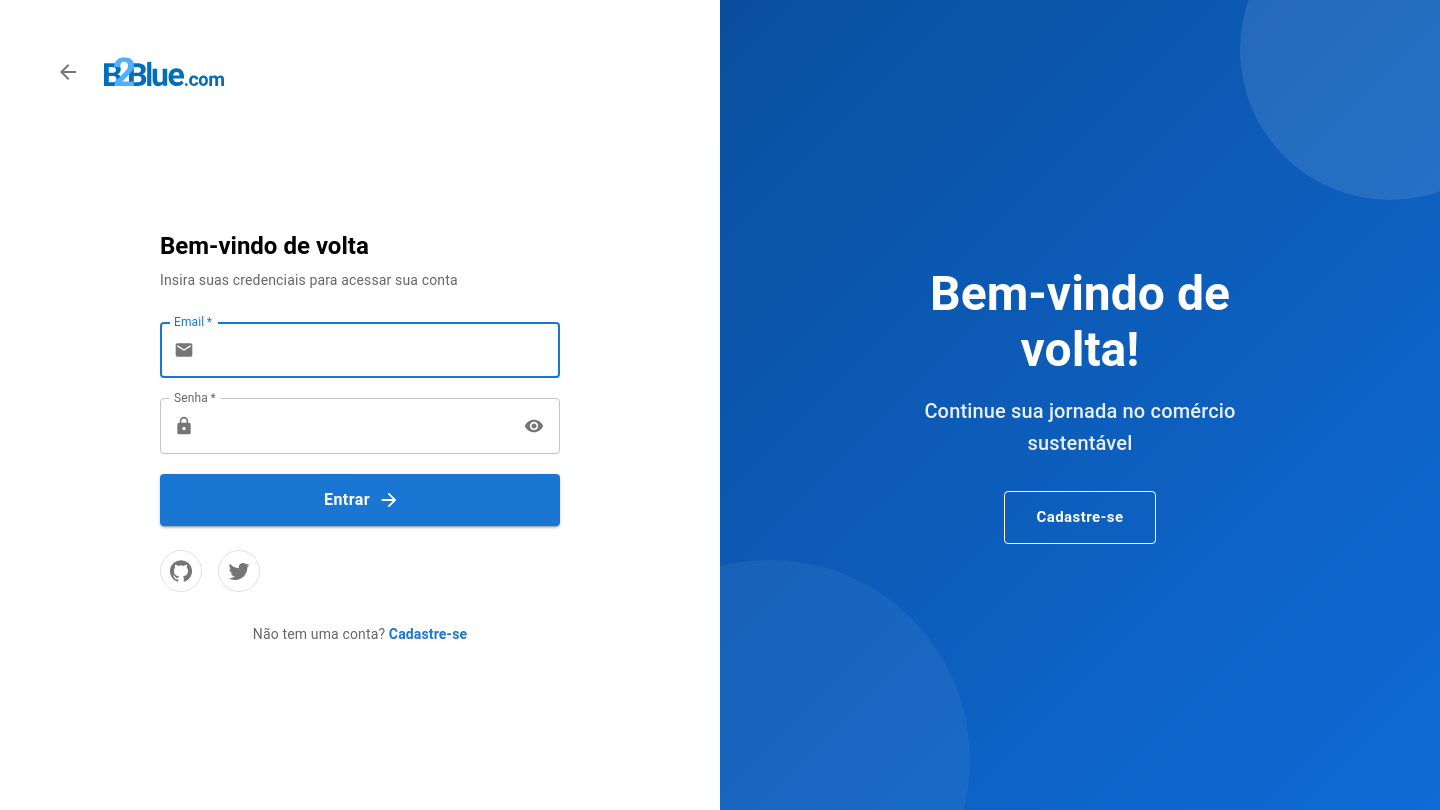
AuthPage › displays error message on login failure
In the field labelled "Email *": (381, 350) [202,322,560,378], type "test@example.com"
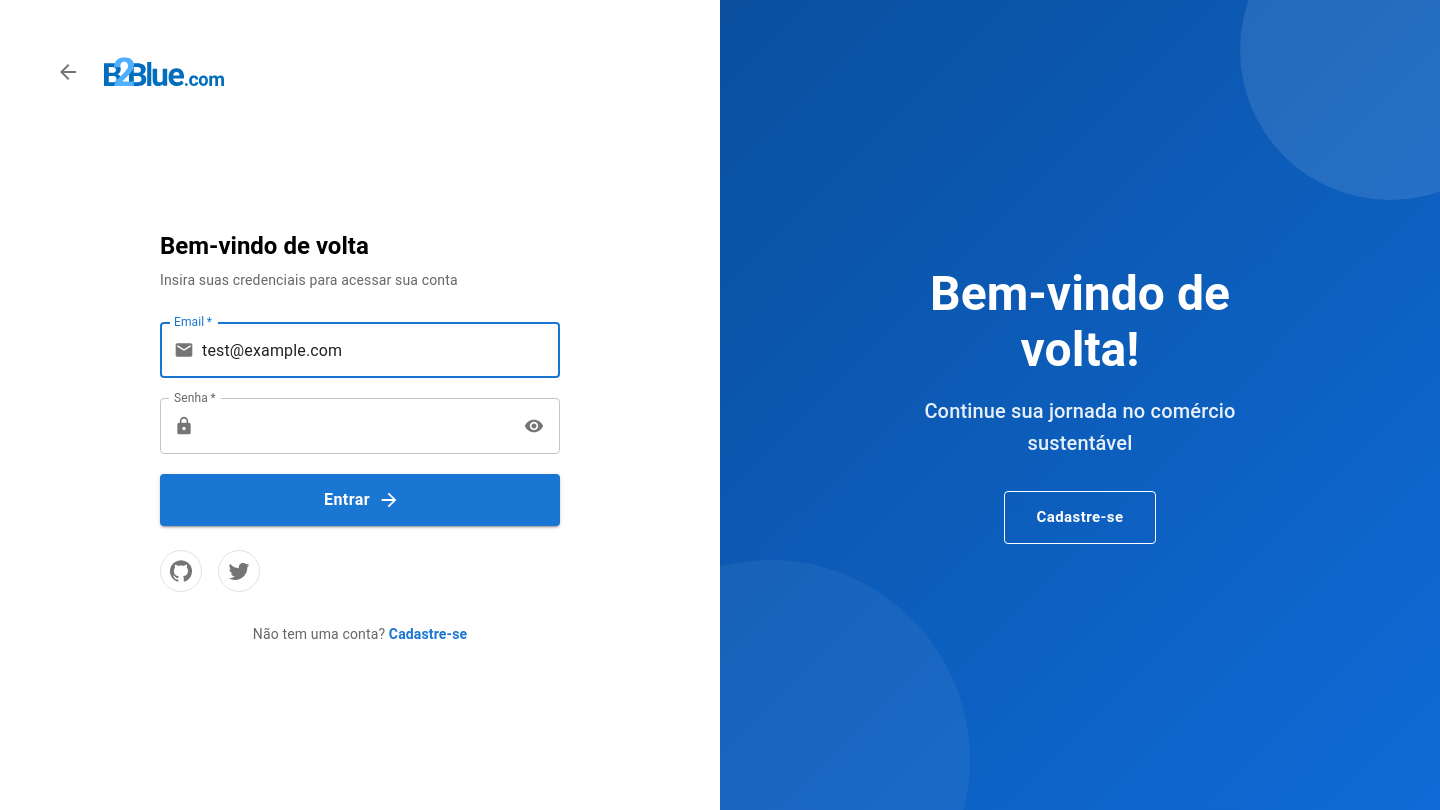
In the password field labelled "Senha *": (356, 426) [202,398,511,454], type "wrongpassword"
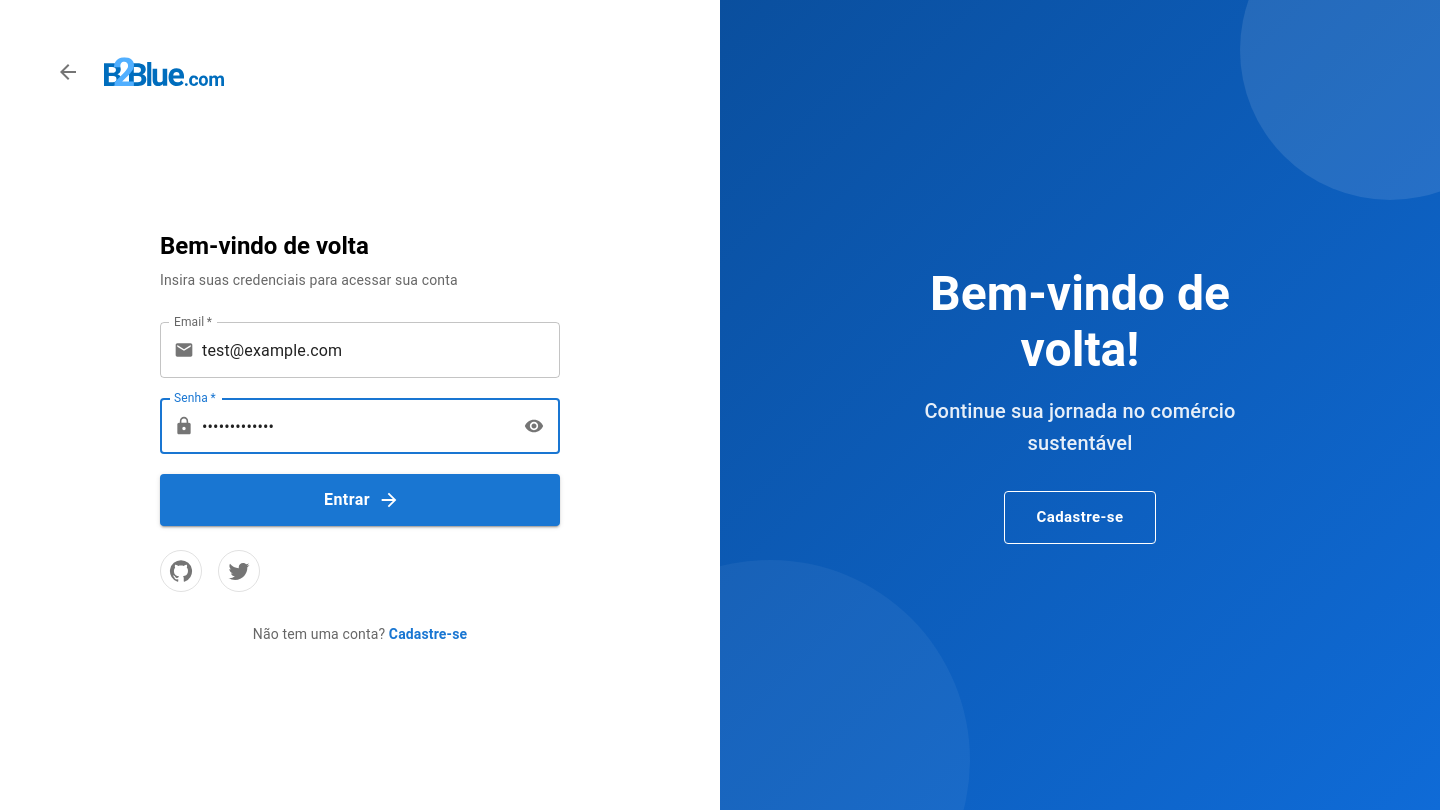
Click the button "Entrar": (360, 500) [160,474,560,526]
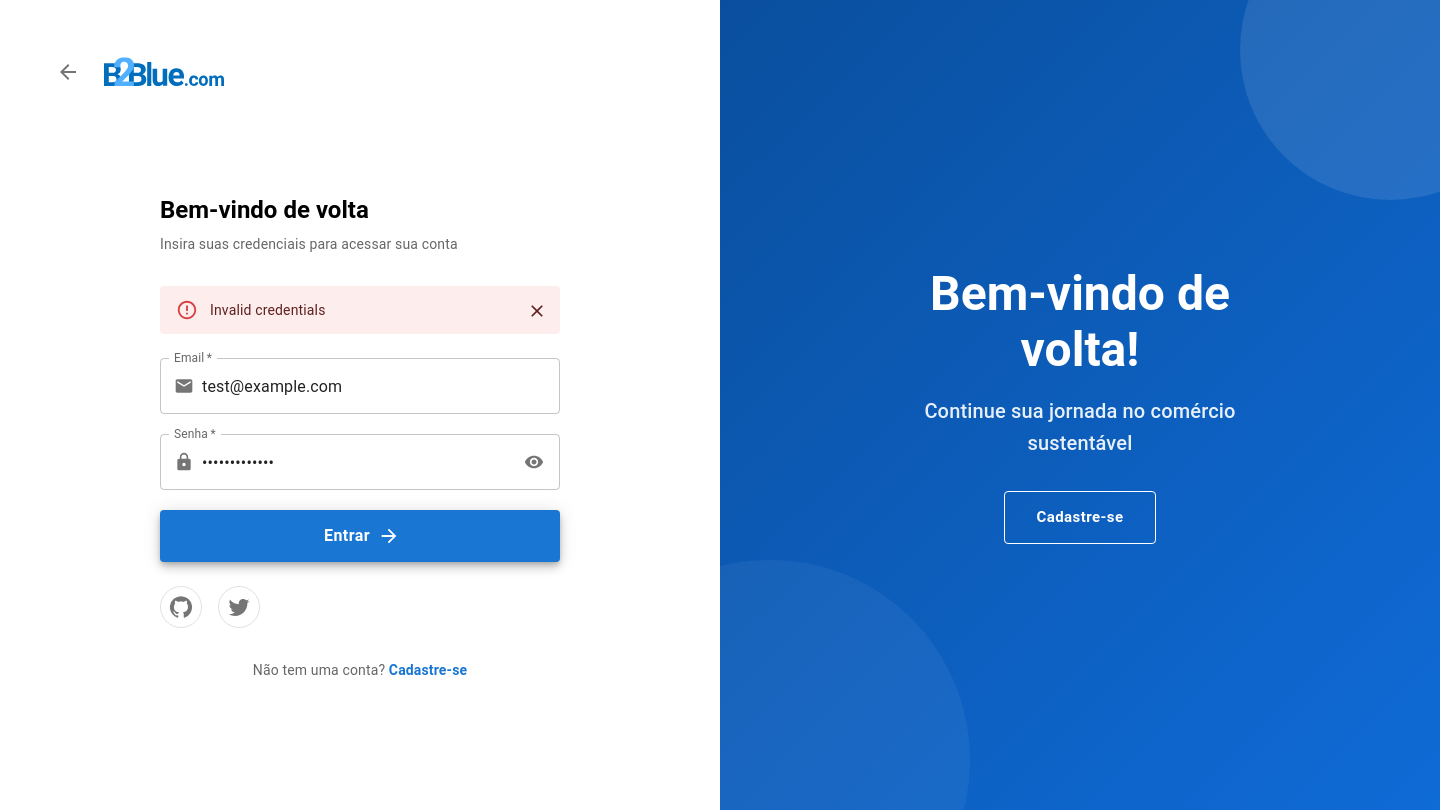
Expected: the text "Invalid credentials" is shown, [210,302,326,318]
